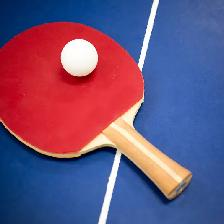WhiteBall: (59, 38, 97, 76)
